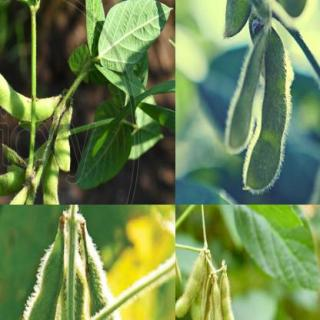soya: (245, 35, 288, 192), (8, 239, 64, 319), (225, 45, 263, 153), (86, 237, 132, 319), (0, 67, 56, 121), (176, 253, 206, 319), (221, 0, 252, 41), (54, 108, 73, 173), (42, 161, 66, 204), (0, 162, 25, 195), (220, 272, 235, 320), (0, 186, 28, 204), (203, 280, 212, 319), (212, 286, 222, 319), (193, 289, 202, 319)
